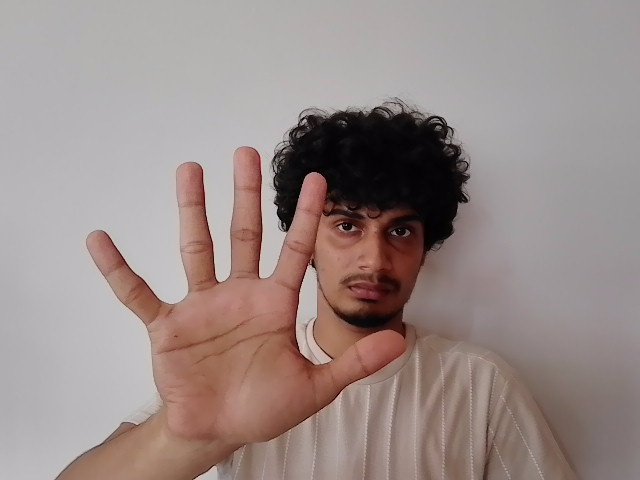goodbye: (85, 146, 409, 436)
